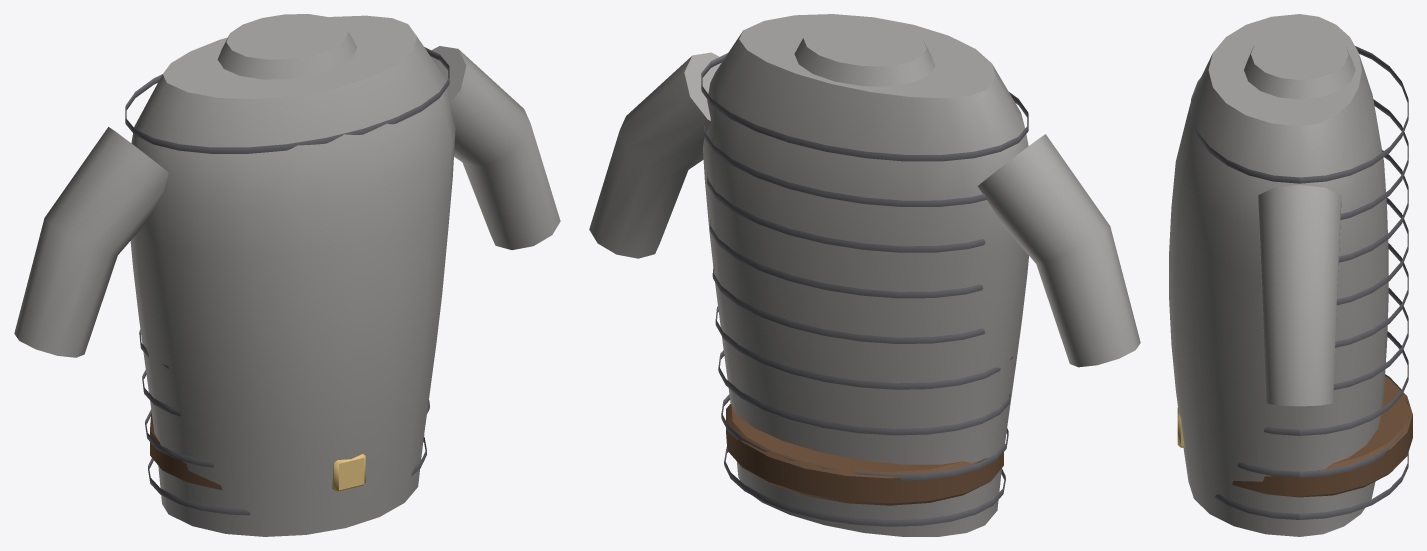
Rendered from iron_hauberk.glb.
3 views of the same model, side by side, from view 1: azimuth 30°, elevation 25°; view 2: azimuth 150°, elevation 25°; view 3: azimuth 270°, elevation 25° (orthographic). The views are drawn at different scales.
Visible parts, largest first — view 1: iron_hauberk; view 2: iron_hauberk; view 3: iron_hauberk.
Part boxes in pixels (x1,y1,x2,y2): iron_hauberk: [14, 14, 560, 536]; iron_hauberk: [589, 14, 1140, 536]; iron_hauberk: [1169, 14, 1412, 536].
Size of the model in its own units: 0.6759 by 0.54 by 0.2792.
